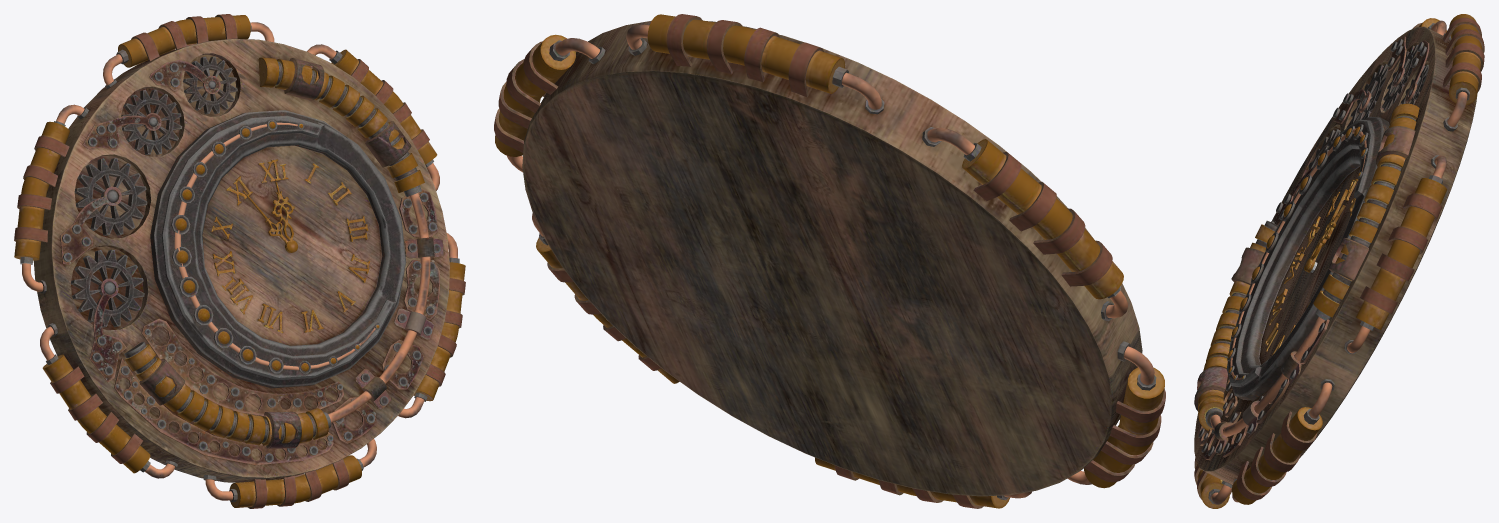
File: Stage3_Cog_Clock.fbx
The picture shows the model from 3 angles, left to right: view 1: azimuth 30°, elevation 25°; view 2: azimuth 150°, elevation 25°; view 3: azimuth 270°, elevation 25°; orthographic projection. The views are drawn at different scales.
Parts seen in each view (by area): view 1: Object_0, Object_2, Object_1, Object_3; view 2: Object_1, Object_2, Object_0, Object_3; view 3: Object_0, Object_2, Object_1, Object_3.
Boxes of the visible parts, x1=… form: Object_0: x1=20, y1=22, x2=459, y2=502; Object_2: x1=14, y1=14, x2=465, y2=507; Object_1: x1=14, y1=44, x2=440, y2=507; Object_3: x1=14, y1=27, x2=464, y2=508; Object_1: x1=522, y1=34, x2=1164, y2=508; Object_2: x1=494, y1=14, x2=1164, y2=508; Object_0: x1=524, y1=20, x2=1155, y2=500; Object_3: x1=506, y1=36, x2=1165, y2=508; Object_0: x1=1194, y1=26, x2=1477, y2=498; Object_2: x1=1197, y1=14, x2=1484, y2=504; Object_1: x1=1194, y1=18, x2=1476, y2=508; Object_3: x1=1194, y1=17, x2=1482, y2=504.
Size of the model in its own units: 313 by 284 by 167.
1 material, 1 textured.
